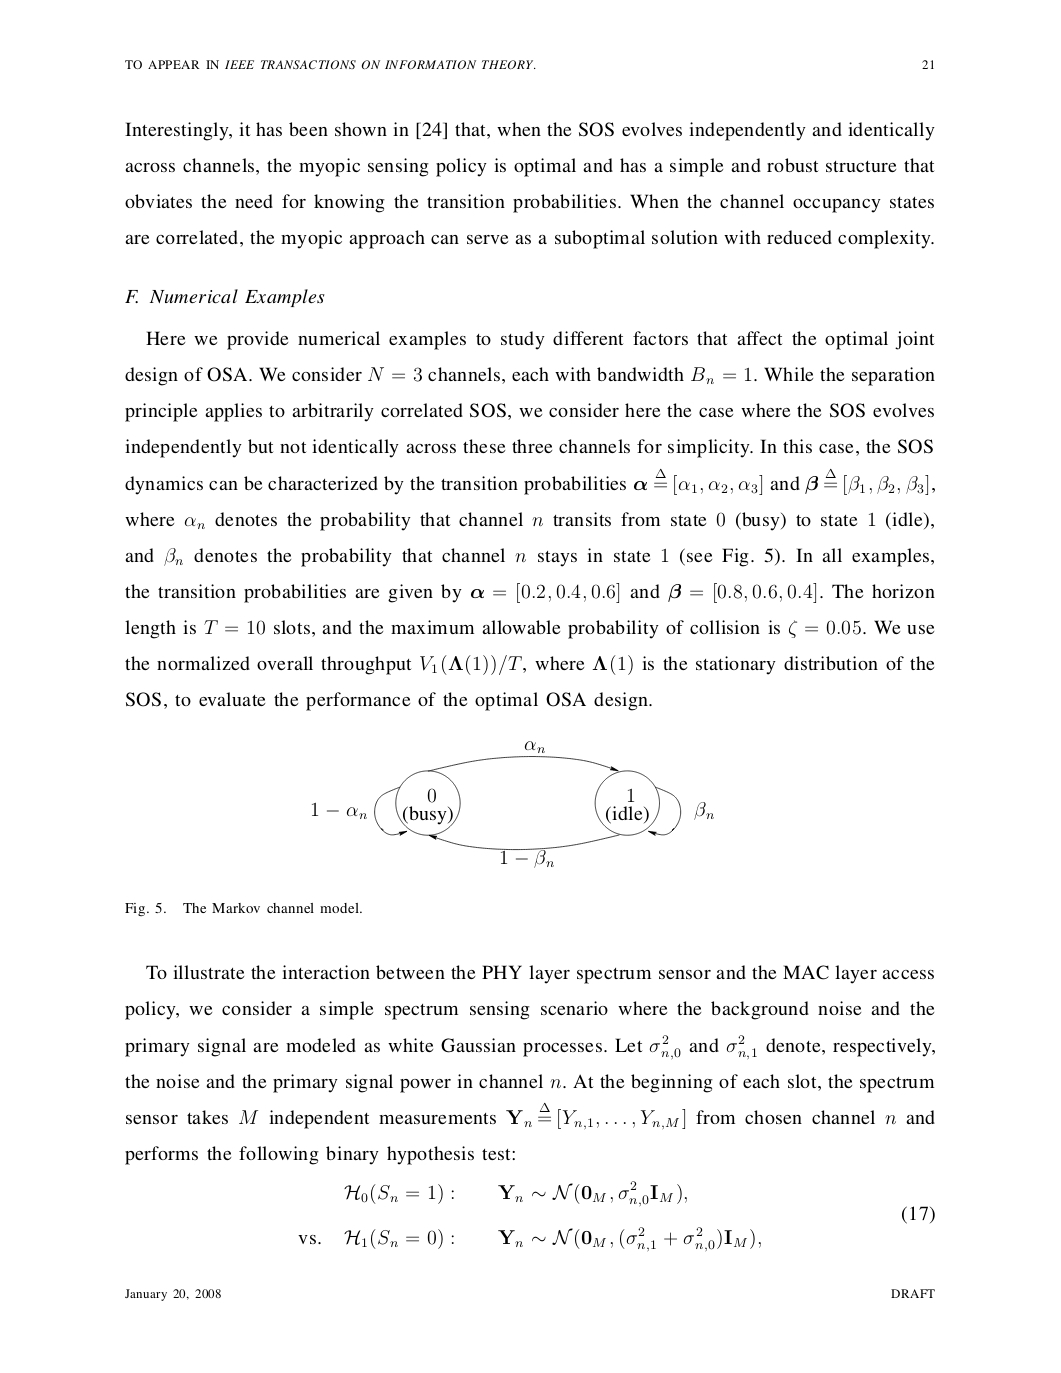figure: (311, 741, 713, 867)
formula: (344, 1180, 934, 1224), (298, 1225, 760, 1252)
